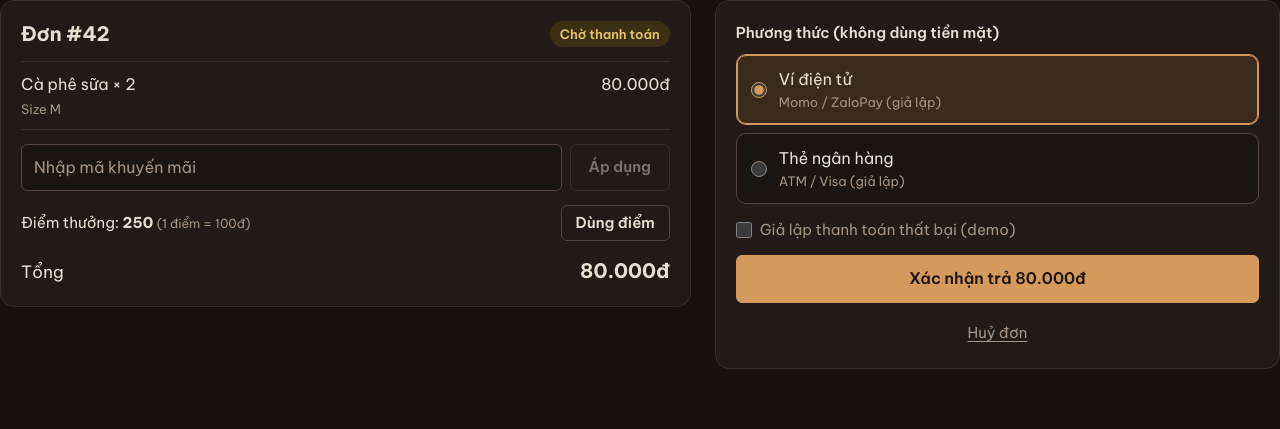
Scenario: Checkout — đổi điểm thưởng (FR-25) › từ 100 điểm: dùng điểm giảm 100đ mỗi điểm, hiện dòng giảm và tổng mới
Click the button "Dùng điểm" at point(615, 223), box [560,205,670,241]
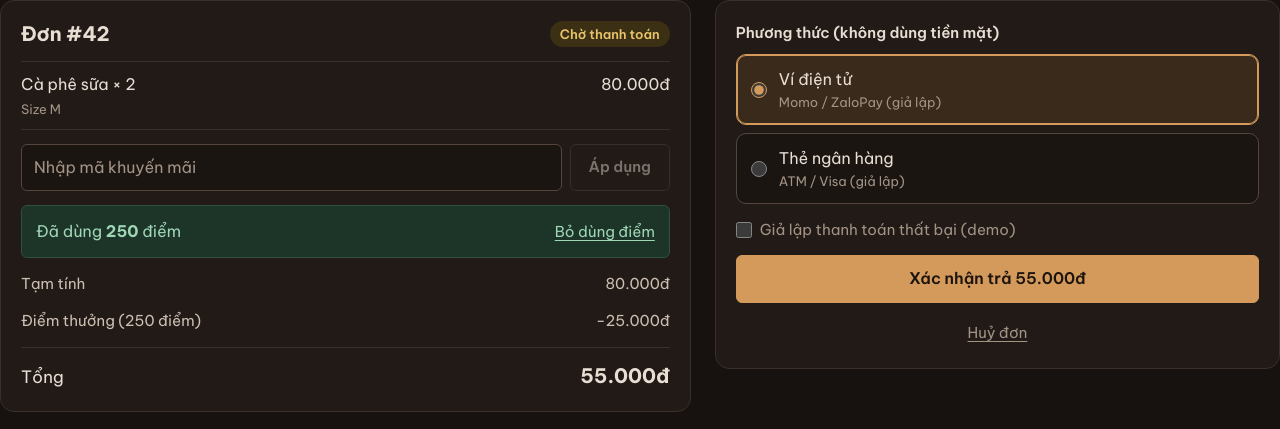
Result: the element with test id "points-applied" shows "250" at [106,221,139,241]
Result: the text with test id "order-points-discount" shows "25.000đ" at [606,311,670,330]
Result: the text with test id "order-total" reads "55.000đ" at [580,363,670,388]
